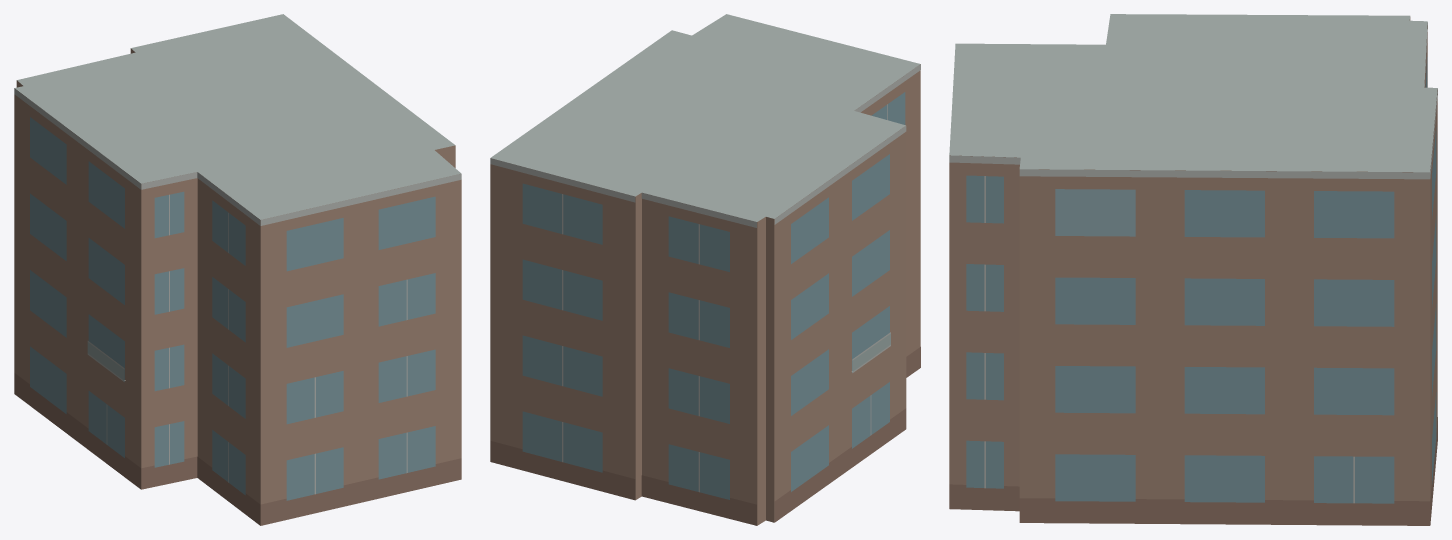
Rendered from survey-upis-32616730.glb.
3 renders of one model, left to right at view 1: azimuth 30°, elevation 25°; view 2: azimuth 150°, elevation 25°; view 3: azimuth 270°, elevation 25°, orthographic. The views are drawn at different scales.
Visible parts, largest first — view 1: survey-upis-32616730.tmp; view 2: survey-upis-32616730.tmp; view 3: survey-upis-32616730.tmp.
Part boxes in pixels (x1,y1,x2,y2): survey-upis-32616730.tmp: (14, 14, 461, 525); survey-upis-32616730.tmp: (490, 14, 920, 525); survey-upis-32616730.tmp: (949, 14, 1437, 525).
Bounding box in the file's own units: 11.69 × 12.15 × 15.22.
